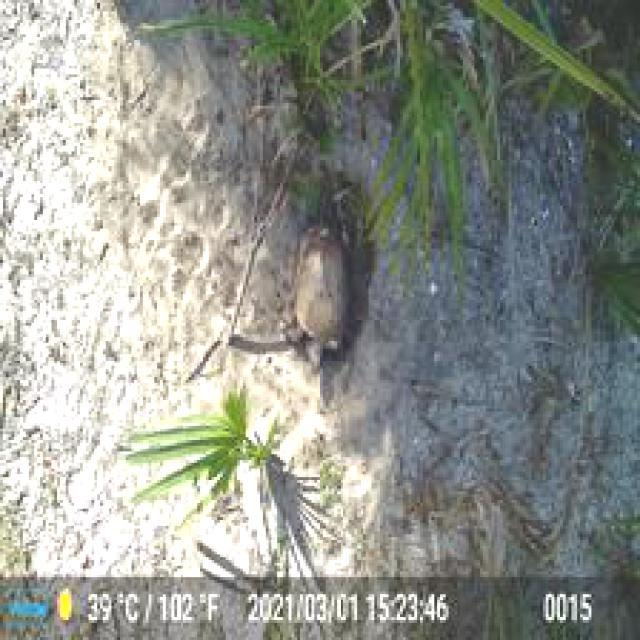tortoise: (286, 220, 354, 366)
